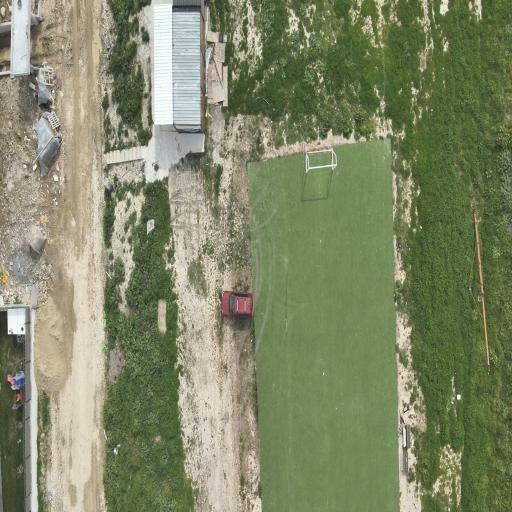car: (222, 290, 253, 316)
